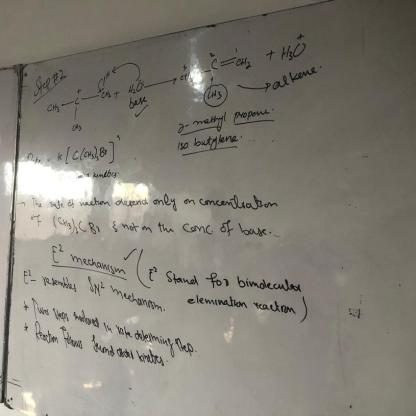Handwritten text: (19, 296, 208, 367), (23, 319, 175, 391), (30, 192, 293, 212), (164, 268, 304, 293), (120, 219, 274, 241), (183, 294, 299, 317), (65, 252, 133, 282), (192, 109, 275, 131), (108, 285, 168, 313), (270, 64, 321, 92), (29, 70, 62, 105), (69, 169, 126, 185), (41, 273, 81, 293), (124, 93, 151, 111), (29, 213, 45, 226)
Whiteboard: (3, 0, 416, 415)
